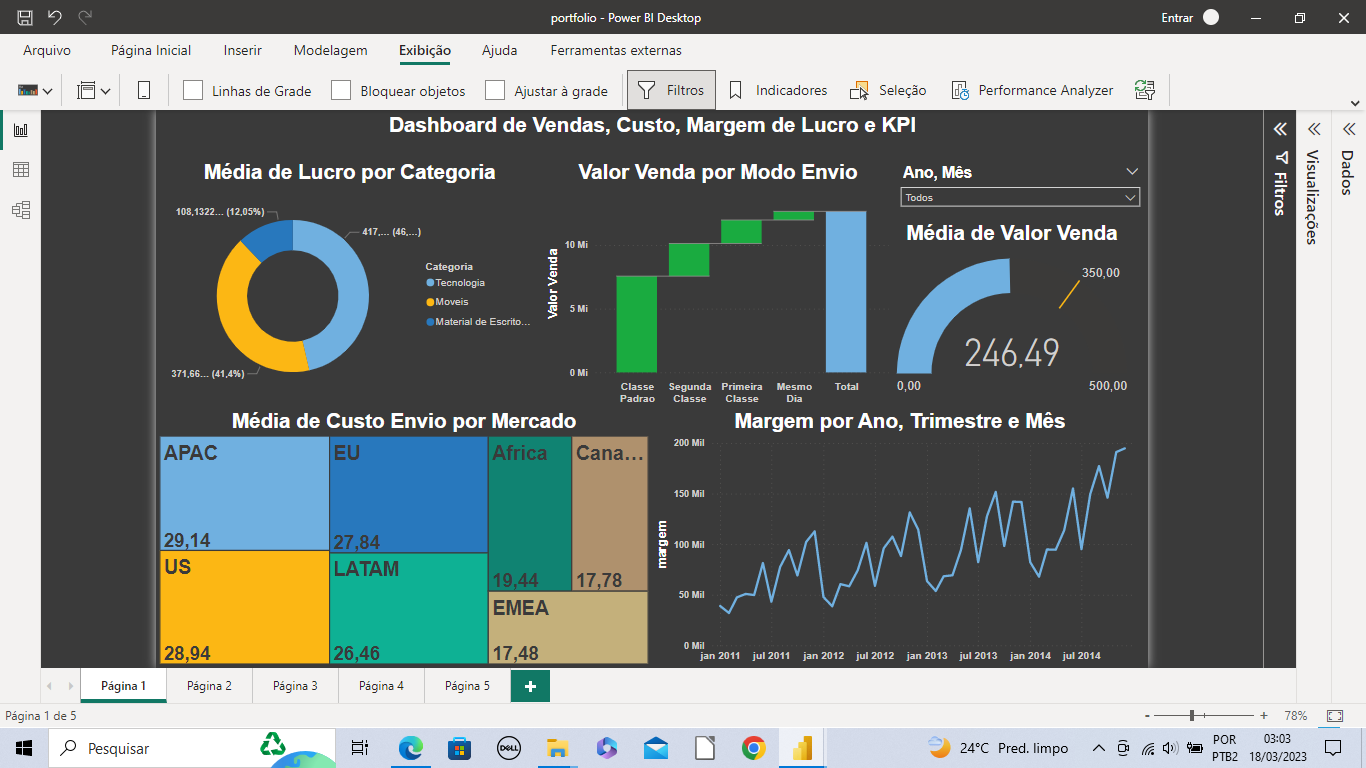

Layout of this report page (visuals, bound fields, positions):
{"tool":"powerbi","page":{"name":"Página 1","canvas":[1280,720],"ordinal":0},"visuals":[{"type":"waterfallChart","fields":{"Y":["Sum(Vendas.Valor Venda)"],"Category":["Pedidos.Modo Envio"]},"box":[499.6,64.7,451.4,323.4],"z":0},{"type":"treemap","fields":{"Values":["Avg(Vendas.Custo Envio)"],"Group":["Clientes.Mercado"]},"box":[0,385.4,640,334.5],"z":1000},{"type":"donutChart","fields":{"Category":["Produtos.Categoria"],"Y":["Avg(Vendas.Lucro)"]},"box":[0,64.7,499.6,320.7],"z":2000},{"type":"lineChart","title":"Margem por Ano, Trimestre e Mês","fields":{"Y":["Sum(Vendas.margem)"],"Category":["Pedidos.Data Pedido.Variation.Hierarquia de datas.Ano","Pedidos.Data Pedido.Variation.Hierarquia de datas.Trimestre","Pedidos.Data Pedido.Variation.Hierarquia de datas.Mês","Pedidos.Data Pedido.Variation.Hierarquia de datas.Dia"]},"box":[640,385.4,640,334.5],"z":3000},{"type":"gauge","fields":{"Y":["Avg(Vendas.Valor Venda)"]},"box":[951.1,143.1,306.9,242.2],"z":4000},{"type":"slicer","fields":{"Values":["Pedidos.Data Pedido.Variation.Hierarquia de datas.Ano","Pedidos.Data Pedido.Variation.Hierarquia de datas.Mês"]},"box":[951.1,64.7,328.9,78.5],"z":5000},{"type":"textbox","box":[260.1,0,759.7,66.1],"z":6000}]}

Visuals, with their boxes on the page's 1280x720 design canvas (x1, y1, x2, y2). These are canvas units, not pixel positions in the 1366x768 screenshot, which may show the page scaled, cropped or inside an application window:
waterfallChart - Sum(Vendas.Valor Venda) x Pedidos.Modo Envio: detection(500, 65, 951, 388)
treemap - Avg(Vendas.Custo Envio) x Clientes.Mercado: detection(0, 385, 640, 720)
donutChart - Produtos.Categoria x Avg(Vendas.Lucro): detection(0, 65, 500, 385)
"Margem por Ano, Trimestre e Mês" lineChart: detection(640, 385, 1280, 720)
gauge - Avg(Vendas.Valor Venda): detection(951, 143, 1258, 385)
slicer - Pedidos.Data Pedido.Variation.Hierarquia de datas.Ano x Pedidos.Data Pedido.Variation.Hierarquia de datas.Mês: detection(951, 65, 1280, 143)
textbox: detection(260, 0, 1020, 66)
